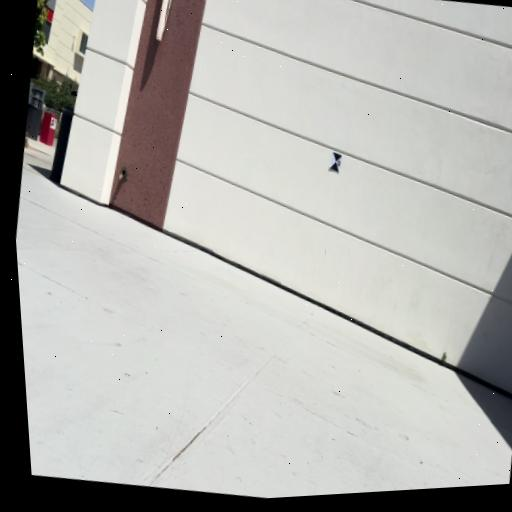target0: (328, 151, 342, 173)
